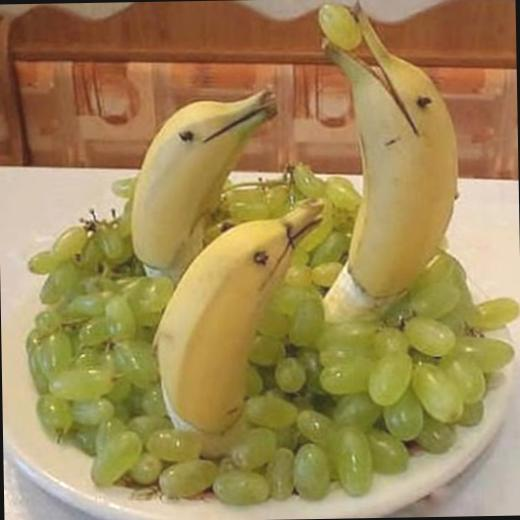Banana: (306, 31, 470, 331), (149, 197, 332, 440), (126, 88, 280, 283)
Orange: (22, 163, 520, 512), (320, 1, 363, 50)
